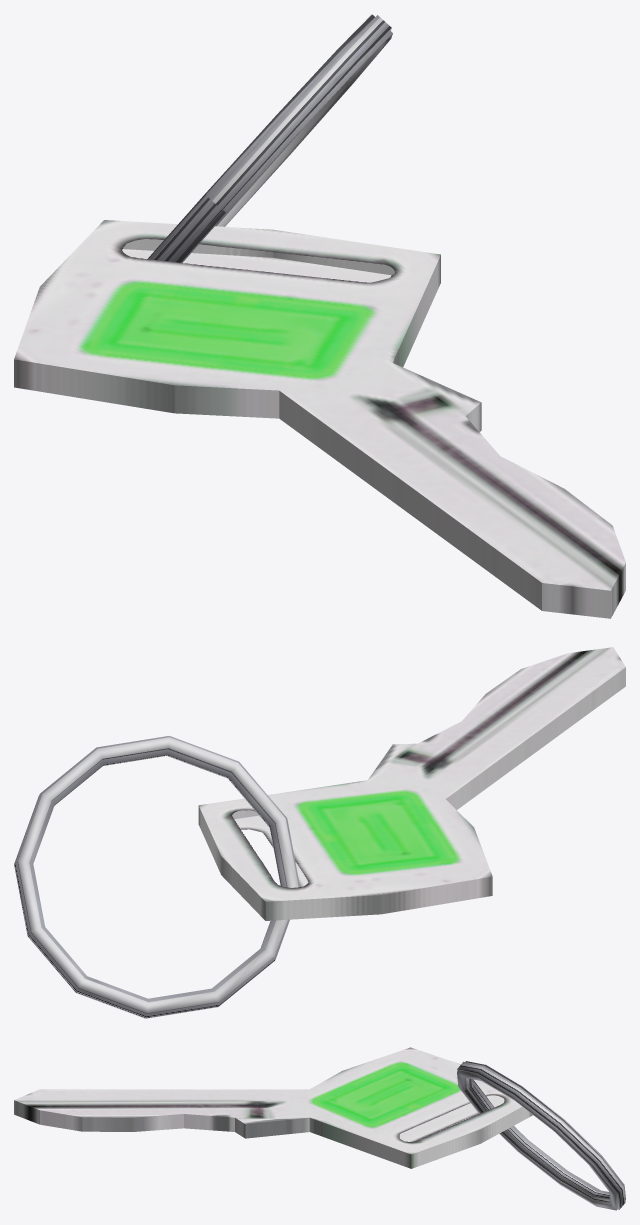
The model's file is key_square3.fbx.
3 renders of one model, top to bottom at view 1: azimuth 30°, elevation 25°; view 2: azimuth 150°, elevation 25°; view 3: azimuth 270°, elevation 25°, orthographic. The views are drawn at different scales.
Parts seen in each view (by area): view 1: key_square3; view 2: key_square3; view 3: key_square3.
Part boxes in pixels (left/top/right/bottom): key_square3: left=14, top=14, right=625, bottom=618; key_square3: left=14, top=647, right=625, bottom=1018; key_square3: left=14, top=1047, right=625, bottom=1210.
Size of the model in its own units: 12.2 by 7 by 24.28.
Materials: 1 (1 with a texture image).
